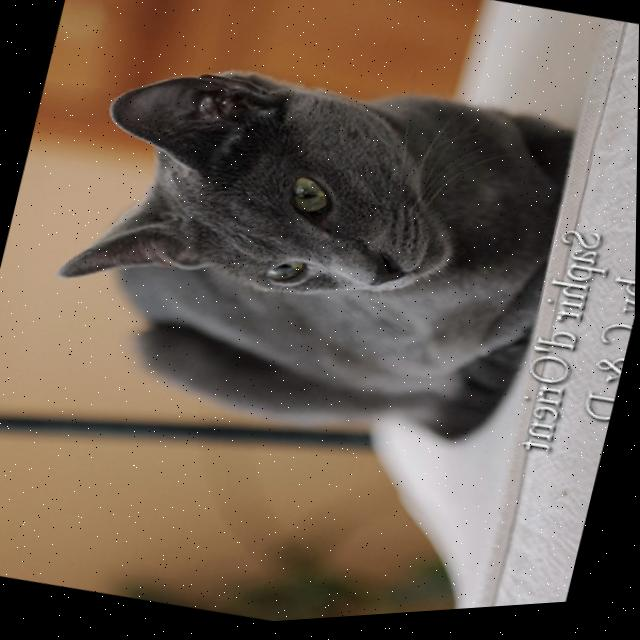Russian Blue: (27, 15, 591, 484)
